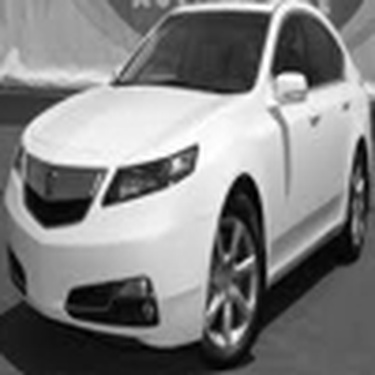car: (4, 4, 370, 372)
